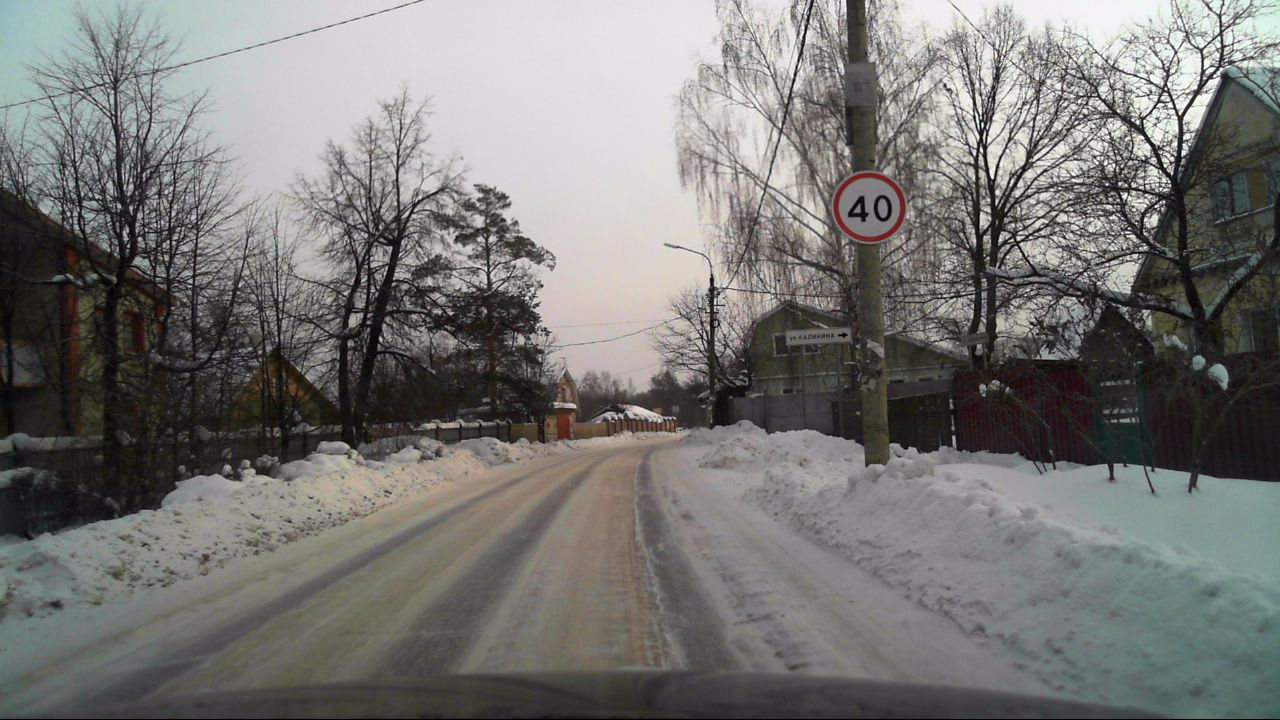speed_warning_40: (830, 171, 906, 245)
